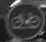bike lane: (3, 2, 42, 37)
